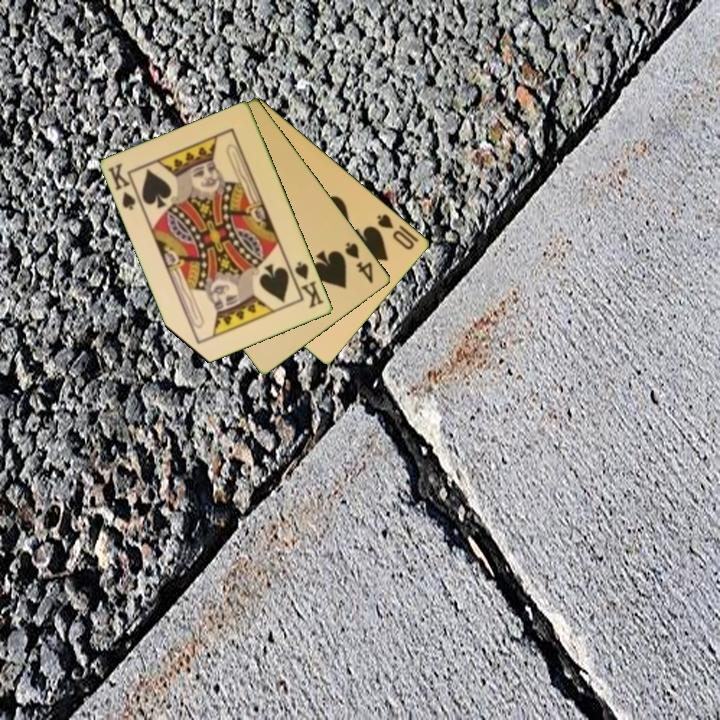10s: (373, 210, 418, 253)
4s: (342, 238, 377, 286)
Ks: (287, 258, 327, 311), (105, 160, 145, 213)
